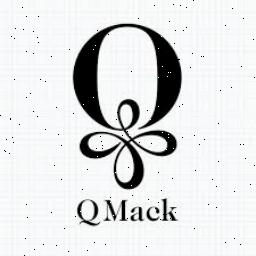c: (145, 204, 163, 224)
m: (104, 191, 128, 227)
q: (72, 194, 106, 234)
